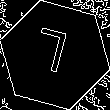L_S: (33, 27, 77, 83)
